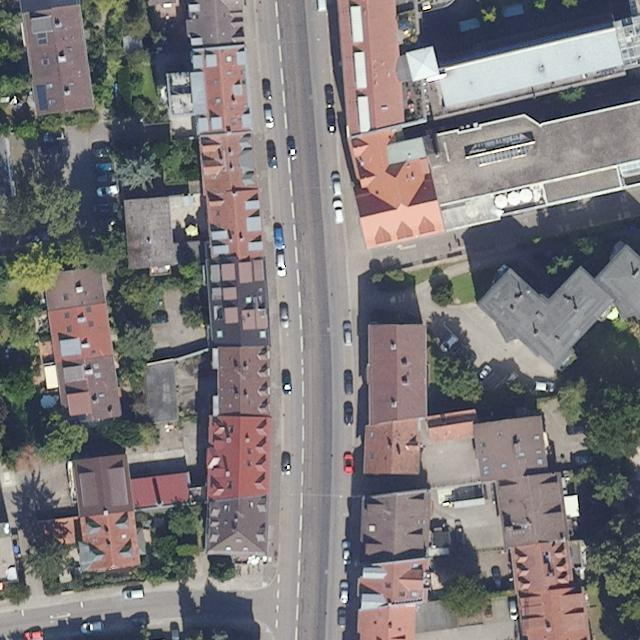PV: (35, 84, 49, 111), (37, 32, 48, 46)
